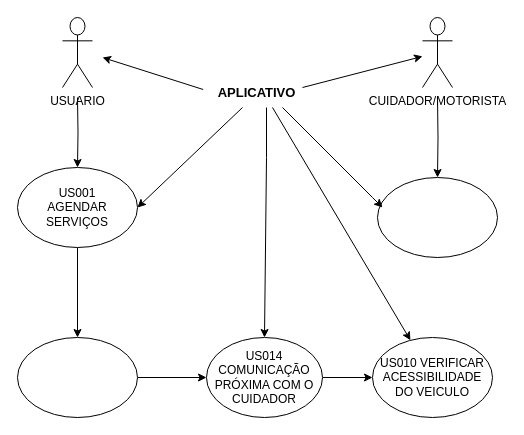
The diagram is 524 pixels wide and 435 high, and some of its shapes have lost their labels. Each missing label, with the box of its shape:
US007 RECEBER NOTIFICAÇÕES: (16, 336, 138, 418)
US011 VIZUALIZAR NECESSIDADES DOS USUARIOS: (376, 176, 498, 258)
